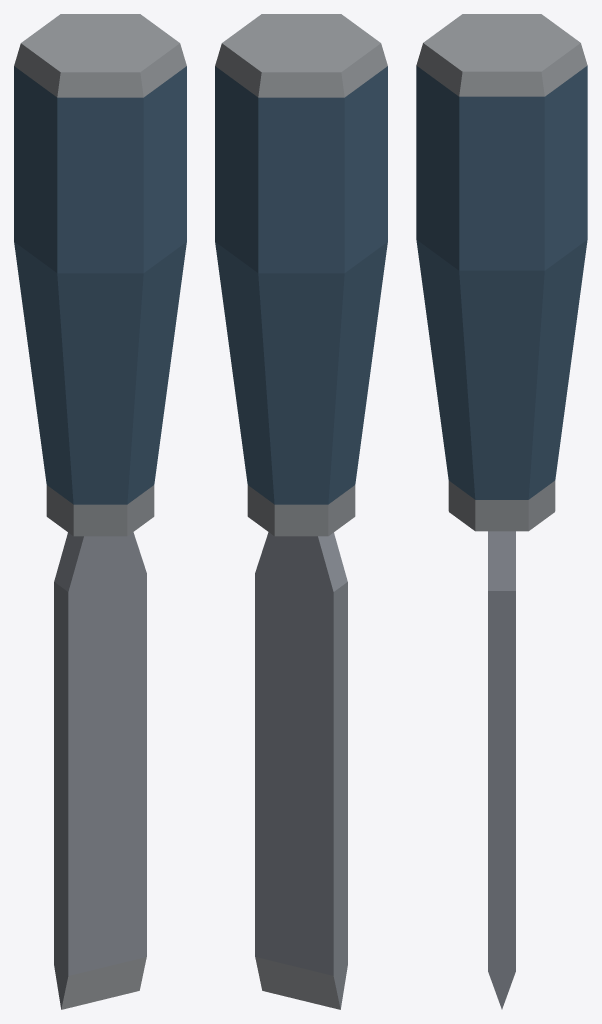
Rendered from SM_Item_Chisel_01.fbx.
The picture shows the model from 3 angles, left to right: view 1: azimuth 30°, elevation 25°; view 2: azimuth 150°, elevation 25°; view 3: azimuth 270°, elevation 25°; orthographic projection.
Parts seen in each view (by area): view 1: SM_Item_Chisel_01; view 2: SM_Item_Chisel_01; view 3: SM_Item_Chisel_01.
Part boxes in pixels (bbox=[...]): SM_Item_Chisel_01: bbox=[14, 14, 186, 1009]; SM_Item_Chisel_01: bbox=[215, 14, 387, 1009]; SM_Item_Chisel_01: bbox=[416, 14, 587, 1009].
Bounding box in the file's own units: 7.66 × 54.06 × 8.85.
